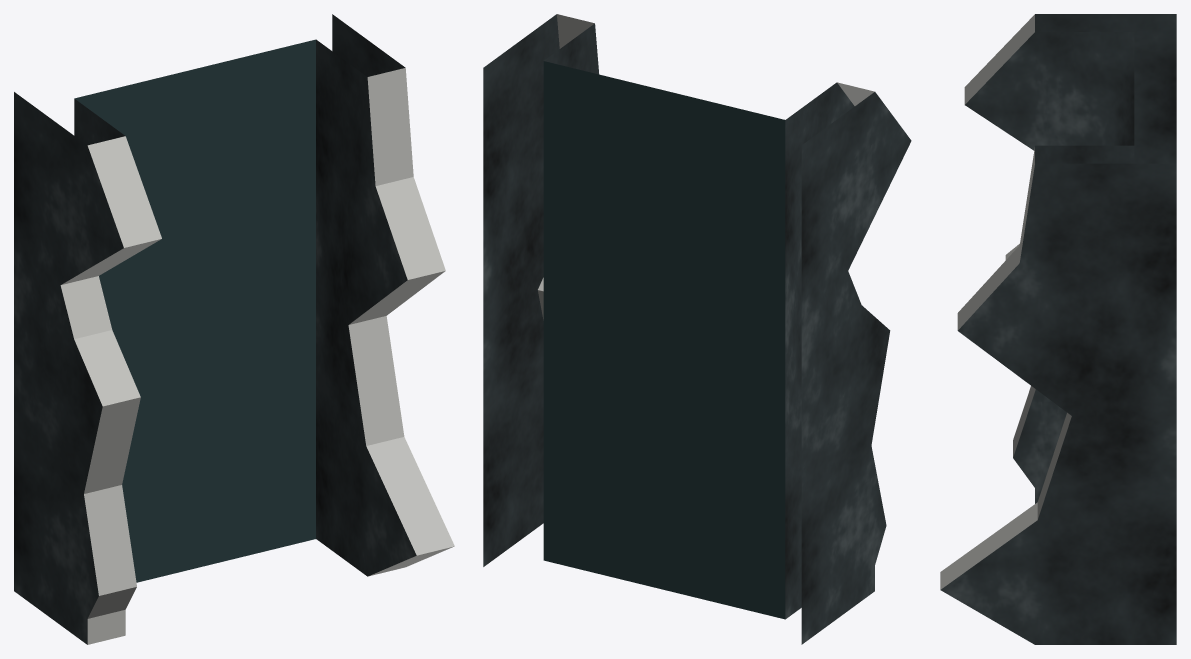
Rendered from OT_048_broken_wall_vert_deco_var1.glb.
The picture shows the model from 3 angles, left to right: view 1: azimuth 30°, elevation 25°; view 2: azimuth 150°, elevation 25°; view 3: azimuth 270°, elevation 25°; orthographic projection. The views are drawn at different scales.
Parts seen in each view (by area): view 1: broken_wall.005; view 2: broken_wall.005; view 3: broken_wall.005.
Boxes of the visible parts, x1,y1,x2,y2 form: broken_wall.005: [14, 14, 454, 644]; broken_wall.005: [483, 14, 911, 644]; broken_wall.005: [940, 14, 1176, 644].
Bounding box in the file's own units: 0.75 × 1.12 × 0.5008.
3 materials, 1 textured.
